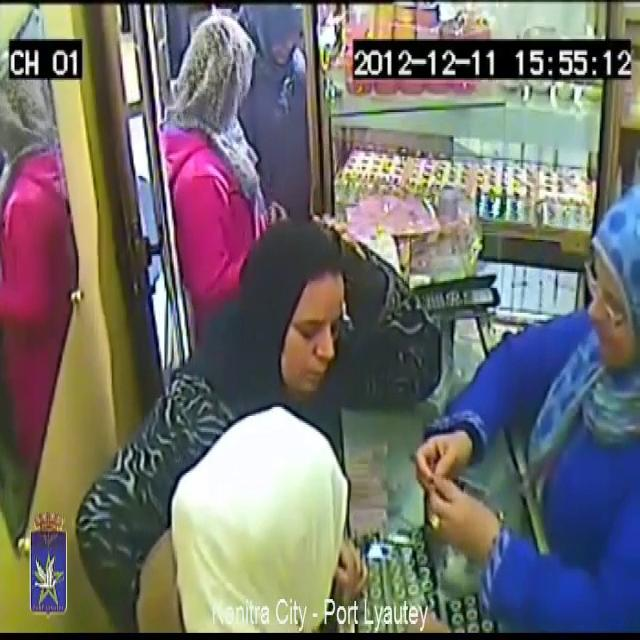Product: (427, 440, 444, 501)
normal: (139, 404, 407, 640), (247, 195, 378, 412), (228, 0, 314, 192)
shoplifting: (416, 201, 640, 639), (149, 1, 311, 274)
